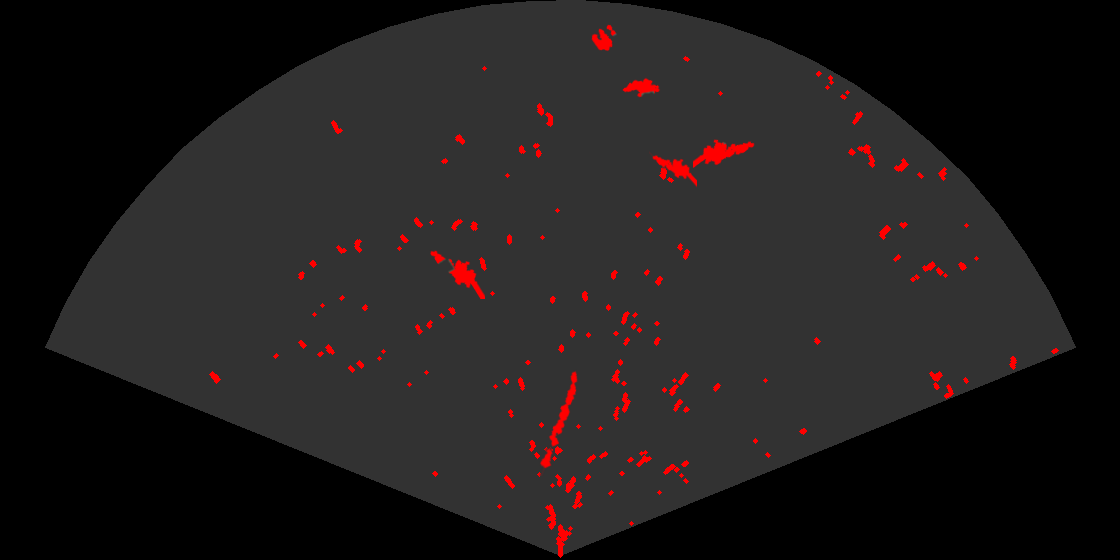AUV: (621, 76, 662, 99)
ball: (590, 23, 618, 53)
chain: (539, 369, 579, 476)
frogman: (429, 249, 485, 299), (693, 138, 756, 169), (649, 150, 697, 189)
